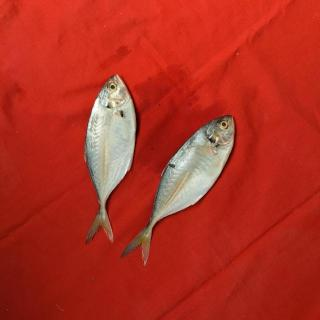Ikan: (84, 67, 242, 271)
